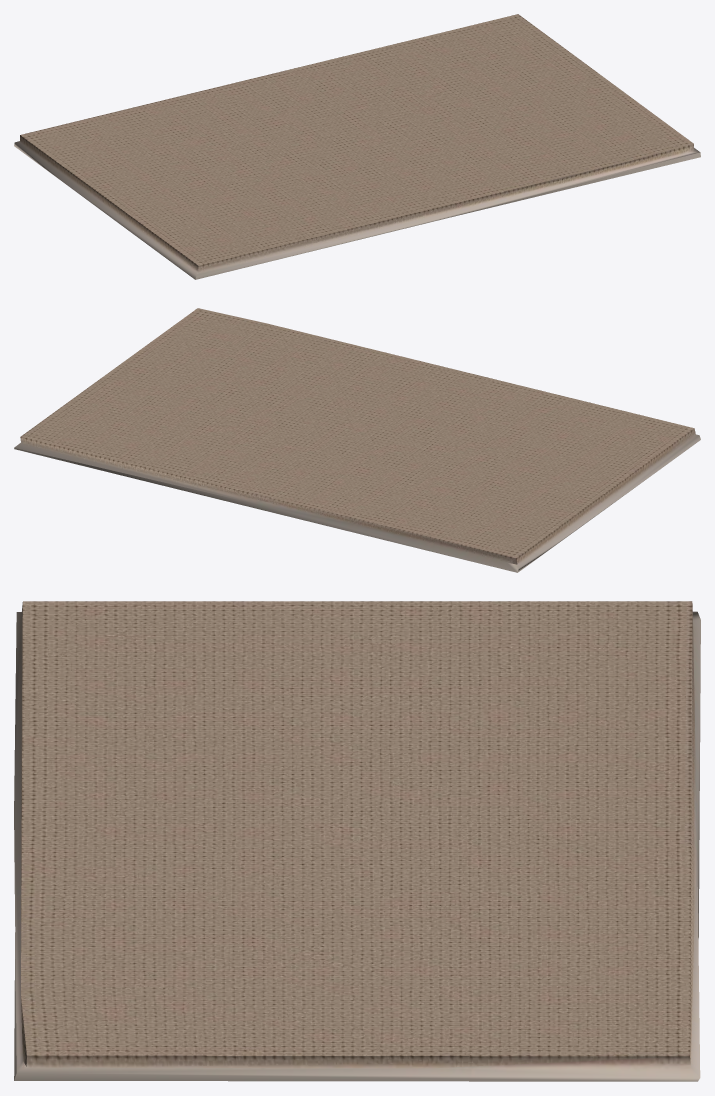
The model's file is 60610263-mini.glb.
3 renders of one model, top to bottom at view 1: azimuth 30°, elevation 25°; view 2: azimuth 150°, elevation 25°; view 3: azimuth 270°, elevation 25°, orthographic. The views are drawn at different scales.
Parts seen in each view (by area): view 1: ASY_ART_60610263_S01_NV01; view 2: ASY_ART_60610263_S01_NV01; view 3: ASY_ART_60610263_S01_NV01.
Boxes of the visible parts, bbox=[...] form: ASY_ART_60610263_S01_NV01: bbox=[14, 14, 700, 279]; ASY_ART_60610263_S01_NV01: bbox=[14, 308, 700, 572]; ASY_ART_60610263_S01_NV01: bbox=[14, 601, 700, 1081].
Size of the model in its own units: 0.8009 by 0.0179 by 0.5013.
Materials: 1 (1 with a texture image).
